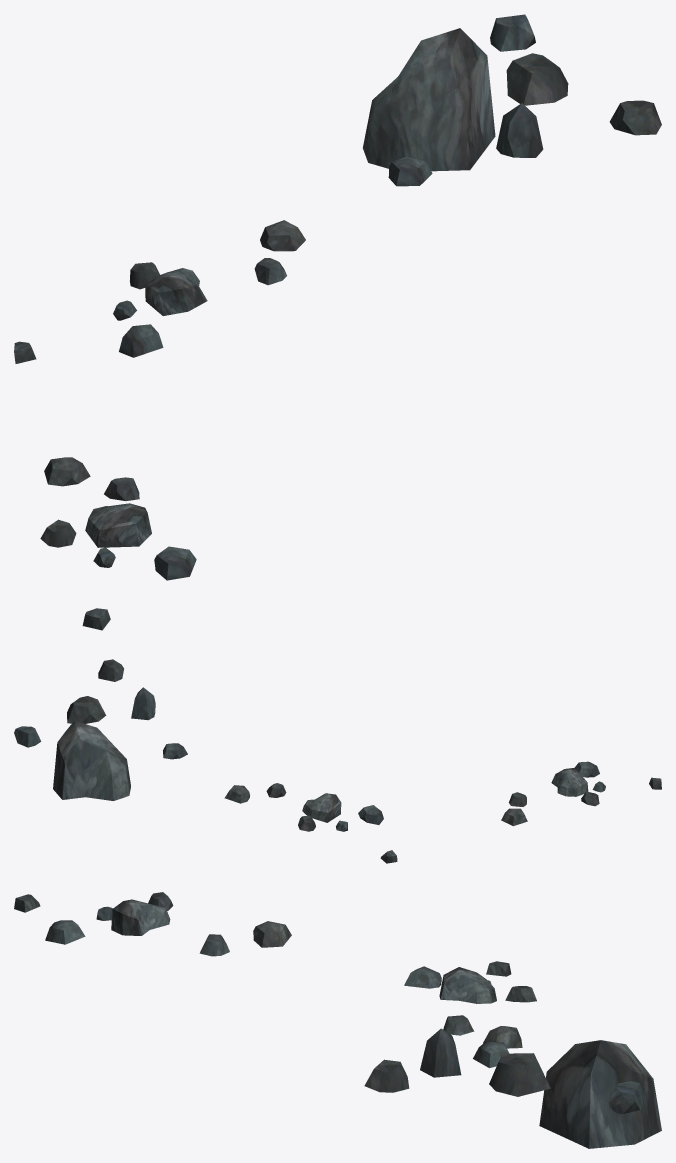
Rendered from object_rubble25.fbx.
The picture shows the model from 3 angles, top to bottom: view 1: azimuth 30°, elevation 25°; view 2: azimuth 150°, elevation 25°; view 3: azimuth 270°, elevation 25°; orthographic projection. The views are drawn at different scales.
Visible parts, largest first — view 1: Material_#238683587/cliffside; view 2: Material_#238683587/cliffside; view 3: Material_#238683587/cliffside.
Boxes of the visible parts, x1,y1,x2,y2 form: Material_#238683587/cliffside: (14,14,661,630); Material_#238683587/cliffside: (14,659,661,863); Material_#238683587/cliffside: (14,892,661,1148).
Size of the model in its own units: 9.24 by 2.1 by 7.48.
